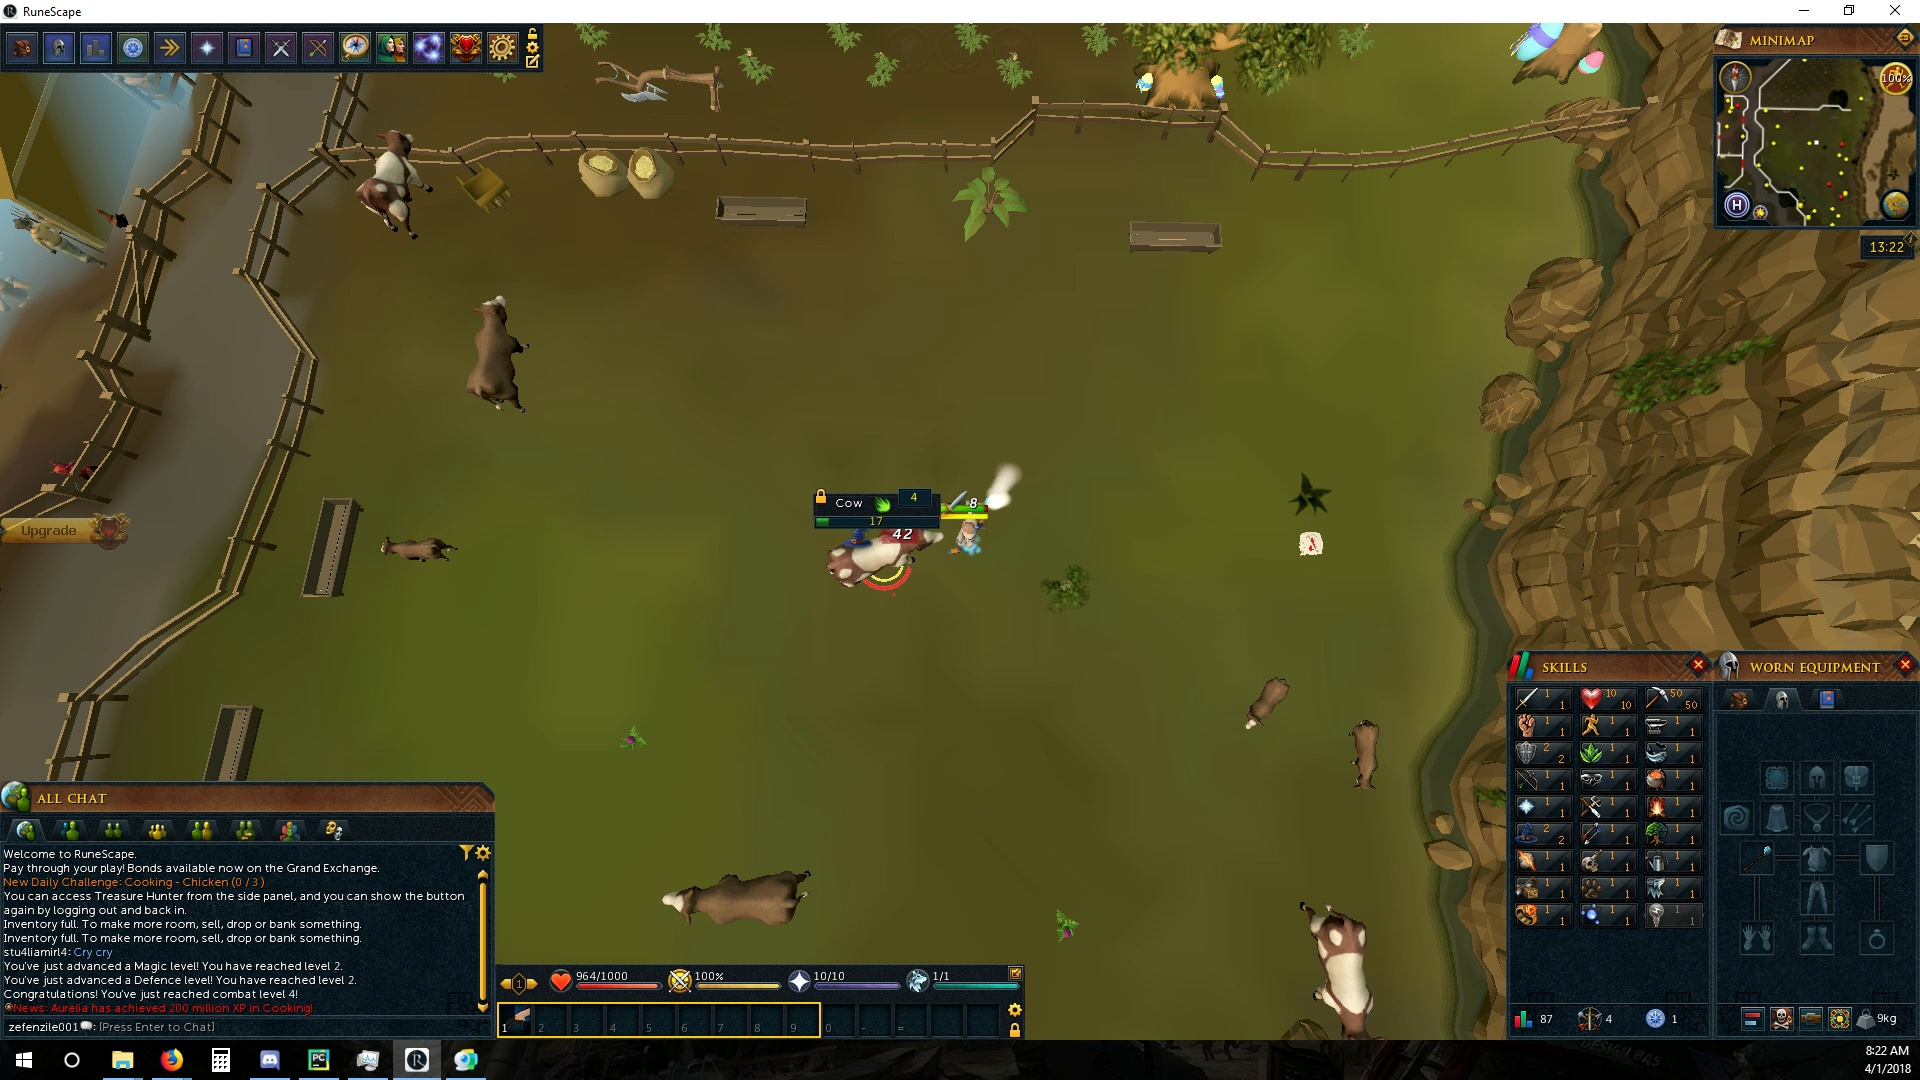calf: (1244, 674, 1290, 737), (1350, 719, 1385, 794), (377, 535, 458, 566)
cow: (1295, 898, 1379, 1039), (355, 127, 439, 248), (655, 865, 811, 928), (822, 526, 945, 595), (465, 295, 533, 415)
cow_drop: (1296, 527, 1327, 560)
